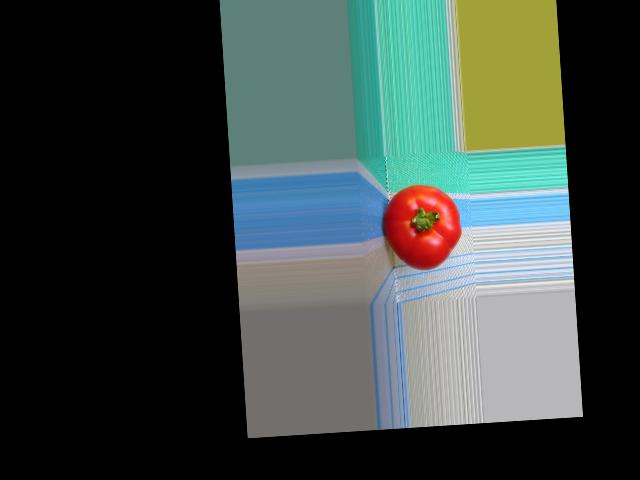tomato: (380, 182, 463, 271)
